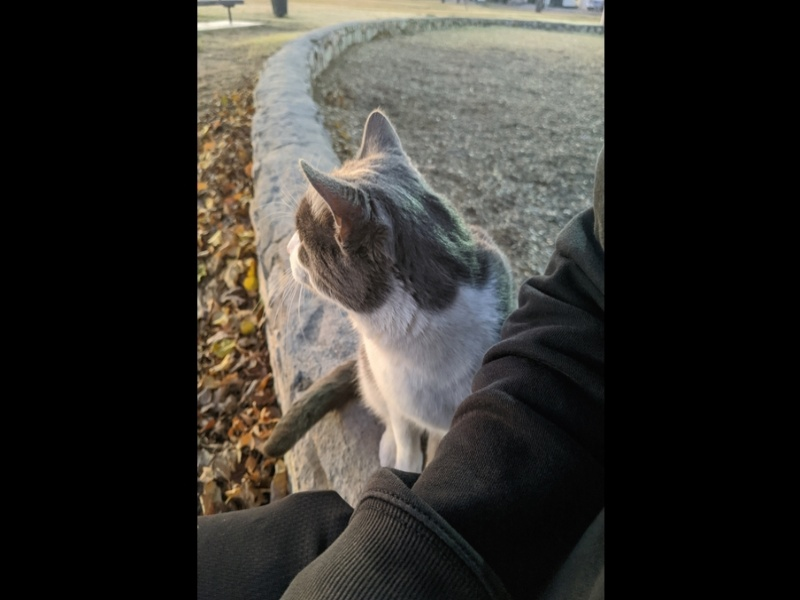cat: (269, 105, 521, 496)
